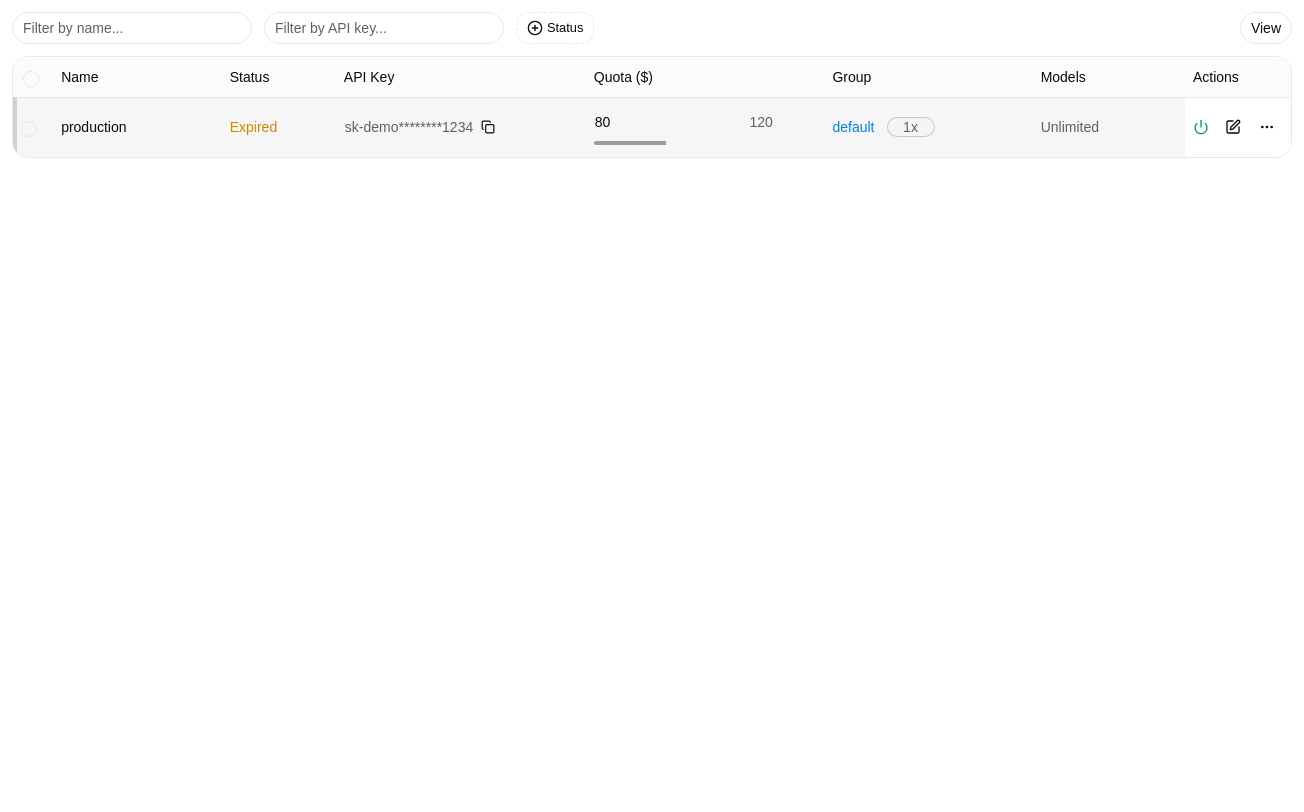
Test: keeps expired status when the server refuses reactivation
Expected: the text "production" is shown, [61, 119, 126, 135]
Click the button named "Enable" at (1201, 127), box [1187, 113, 1215, 141]
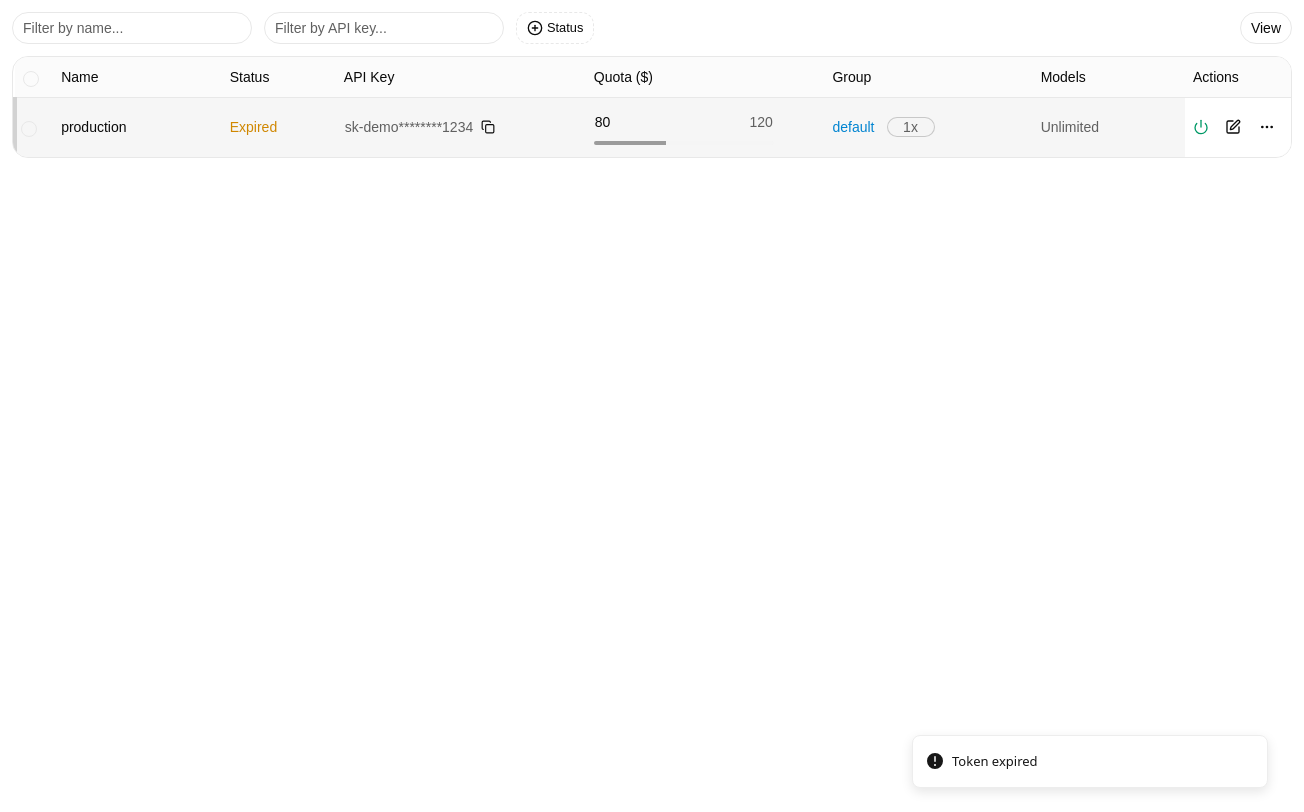
Expected: the text "Expired" is shown, [230, 117, 277, 138]
Result: the text "Token expired" is shown at [952, 752, 1038, 771]
